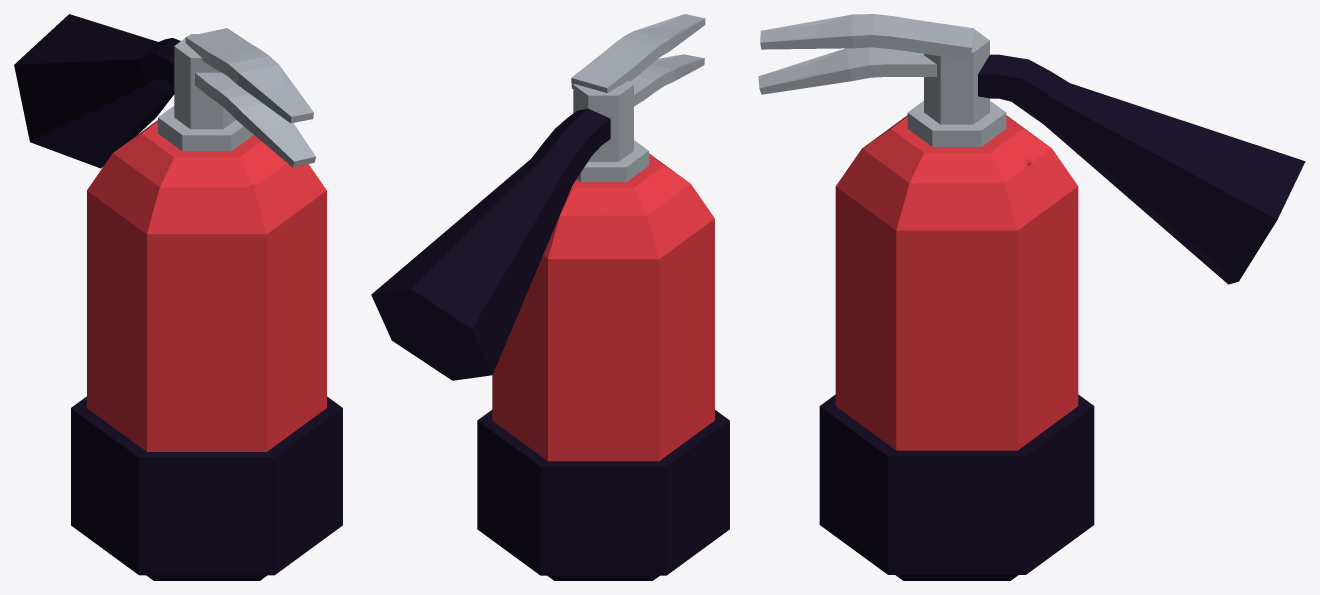
Rendered from extintor.fbx.
The picture shows the model from 3 angles, left to right: view 1: azimuth 30°, elevation 25°; view 2: azimuth 150°, elevation 25°; view 3: azimuth 270°, elevation 25°; orthographic projection. The views are drawn at different scales.
Parts seen in each view (by area): view 1: Canister; view 2: Canister; view 3: Canister.
Part boxes in pixels (x1,y1,x2,y2): Canister: (14, 14, 342, 580); Canister: (371, 14, 729, 580); Canister: (758, 14, 1305, 580).
Size of the model in its own units: 196 by 471 by 451.
Materials: 1 (1 with a texture image).
